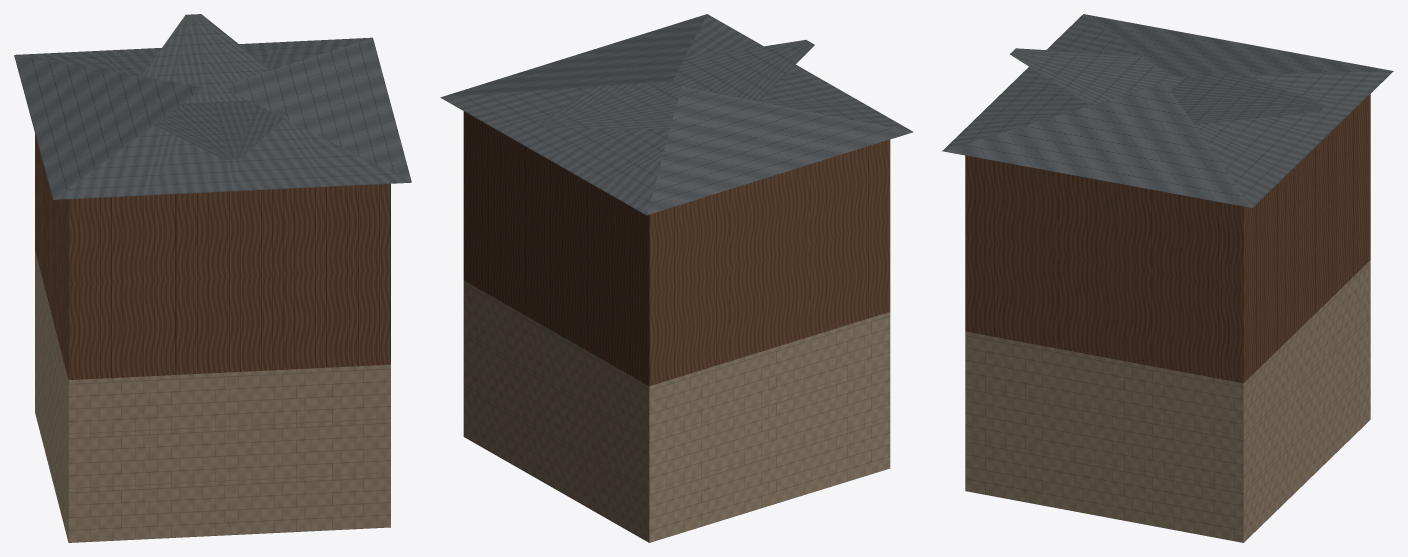
The model's file is bld_c7_38_524.gltf.
The picture shows the model from 3 angles, left to right: view 1: azimuth 30°, elevation 25°; view 2: azimuth 150°, elevation 25°; view 3: azimuth 270°, elevation 25°; orthographic projection. The views are drawn at different scales.
Parts seen in each view (by area): view 1: bld_c7_38_524; view 2: bld_c7_38_524; view 3: bld_c7_38_524.
Part boxes in pixels (<box>): bld_c7_38_524: <box>14,14,411,542</box>; bld_c7_38_524: <box>440,14,913,542</box>; bld_c7_38_524: <box>942,14,1393,542</box>.
Bounding box in the file's own units: 13.32 × 12 × 13.08.
Materials: 3 (3 with a texture image).
